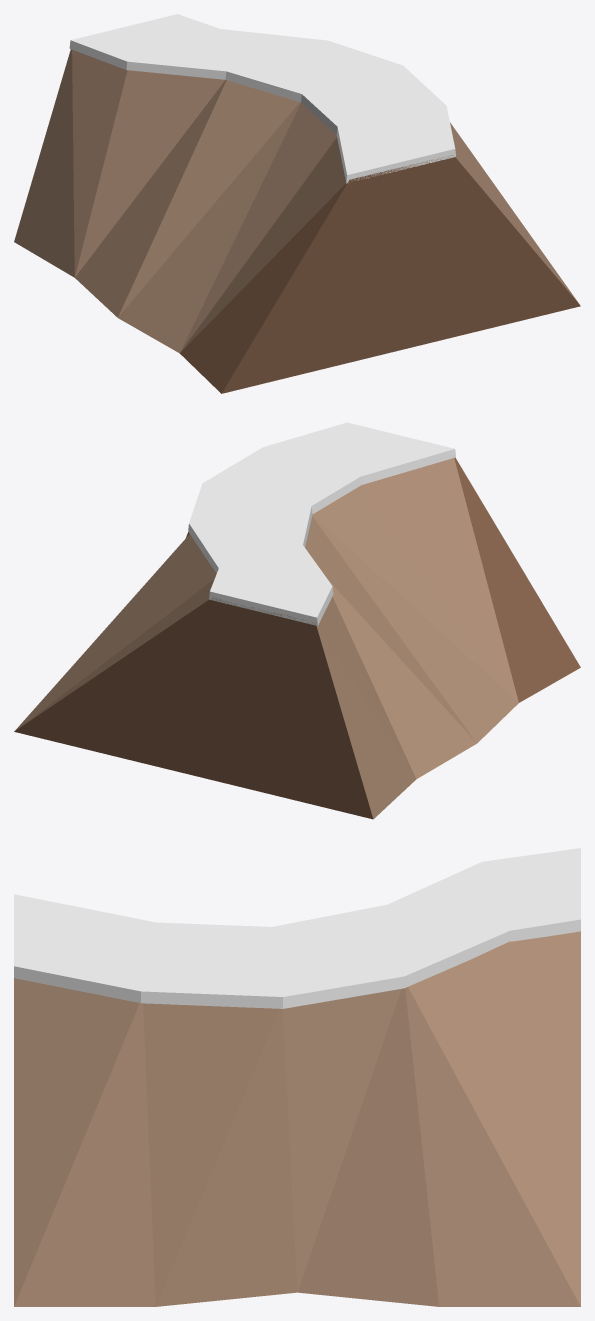
The model's file is South_to_West.fbx.
3 renders of one model, top to bottom at view 1: azimuth 30°, elevation 25°; view 2: azimuth 150°, elevation 25°; view 3: azimuth 270°, elevation 25°, orthographic. The views are drawn at different scales.
Parts seen in each view (by area): view 1: Path_09; view 2: Path_09; view 3: Path_09.
Part boxes in pixels (x1,y1,x2,y2): Path_09: [14, 14, 580, 393]; Path_09: [14, 422, 580, 819]; Path_09: [14, 848, 580, 1306].
Size of the model in its own units: 200 by 100 by 200.
2 materials, 1 textured.
